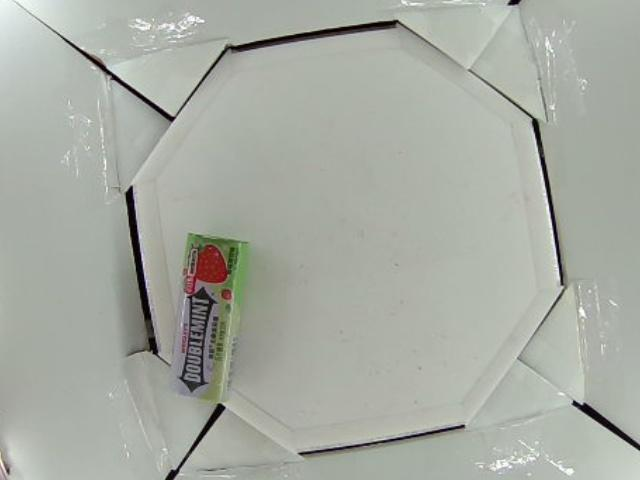Bottle: (171, 230, 247, 408)
